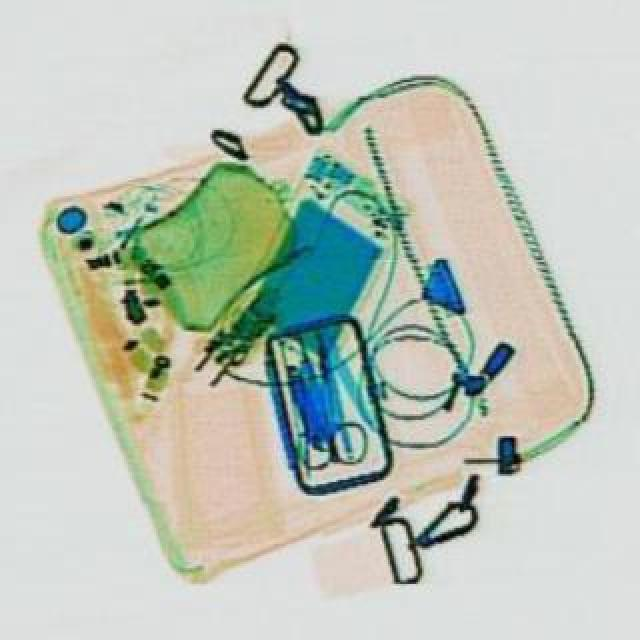pliers: (278, 328, 370, 468)
